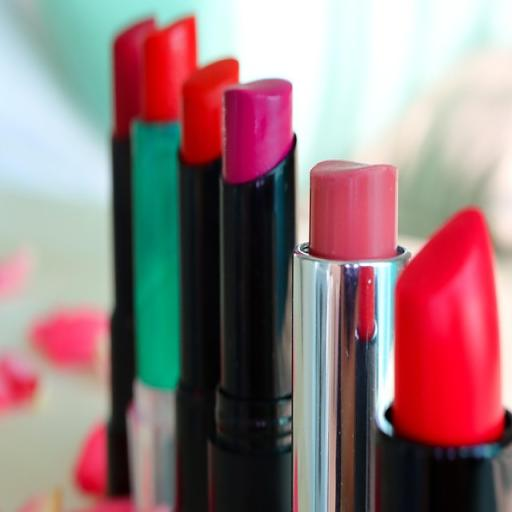lipstick: (293, 161, 409, 511), (377, 209, 511, 511), (209, 80, 295, 511), (129, 17, 196, 510), (176, 59, 238, 511), (108, 20, 155, 495)
